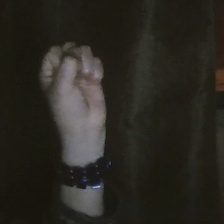S: (29, 34, 140, 147)
